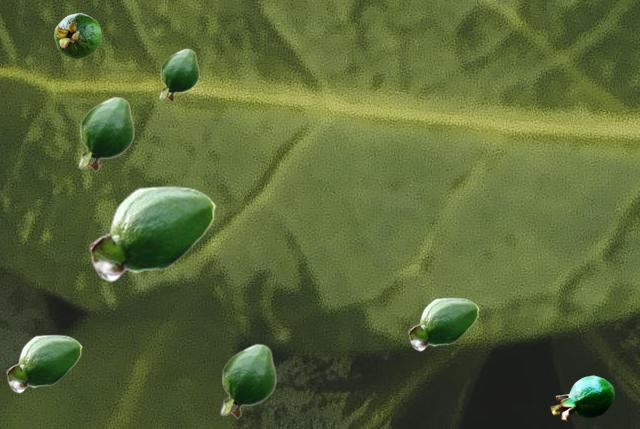guava: (89, 185, 215, 281), (6, 334, 81, 392), (220, 343, 275, 418), (78, 96, 133, 171), (408, 297, 478, 350), (550, 375, 613, 420), (54, 13, 100, 58), (159, 48, 198, 101)
